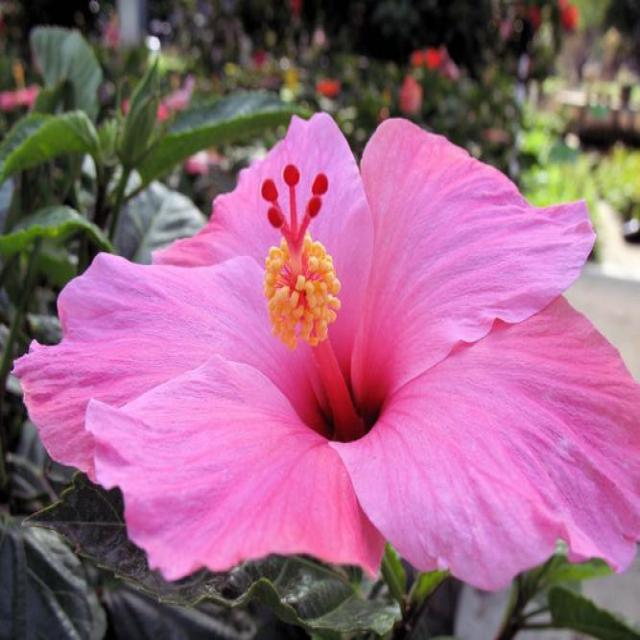hibiscus: (24, 67, 640, 640)
